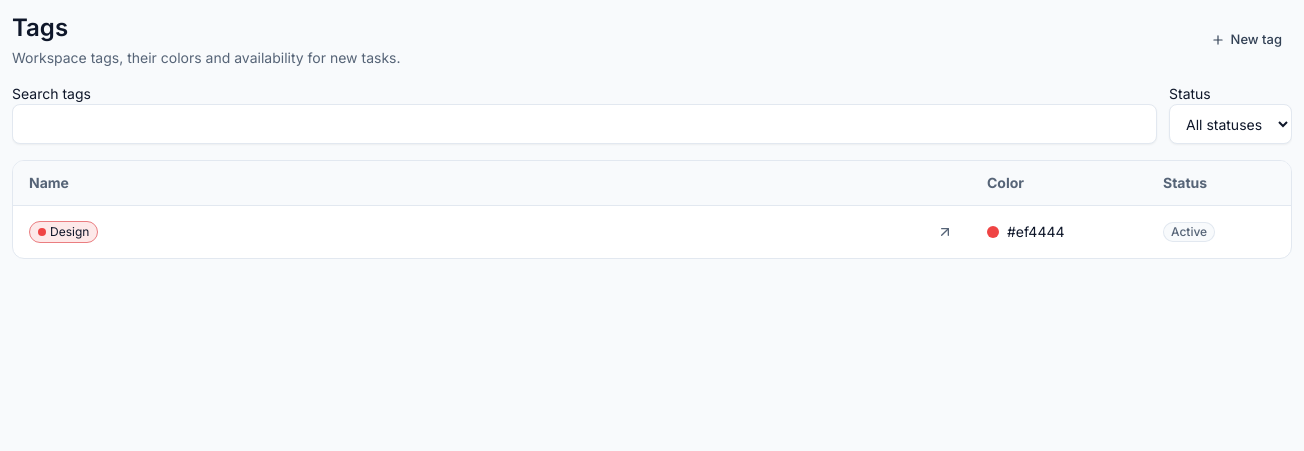
Test: tag catalog and settings › reloads a conflict explicitly and preserves a concurrent rename when archiving
Step 1. Click the button with aria-label "Edit status for Design" → (1219, 232), box x1=1155 y1=214 x2=1283 y2=250
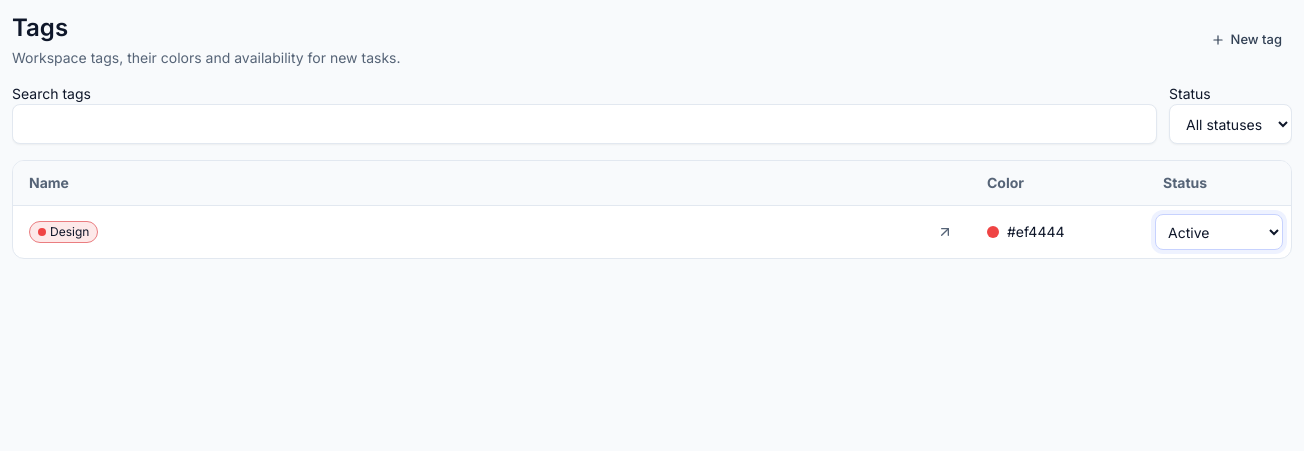
Step 2. Select "Archived" in the dropdown named "Status" → (1219, 232), box x1=1155 y1=214 x2=1283 y2=250
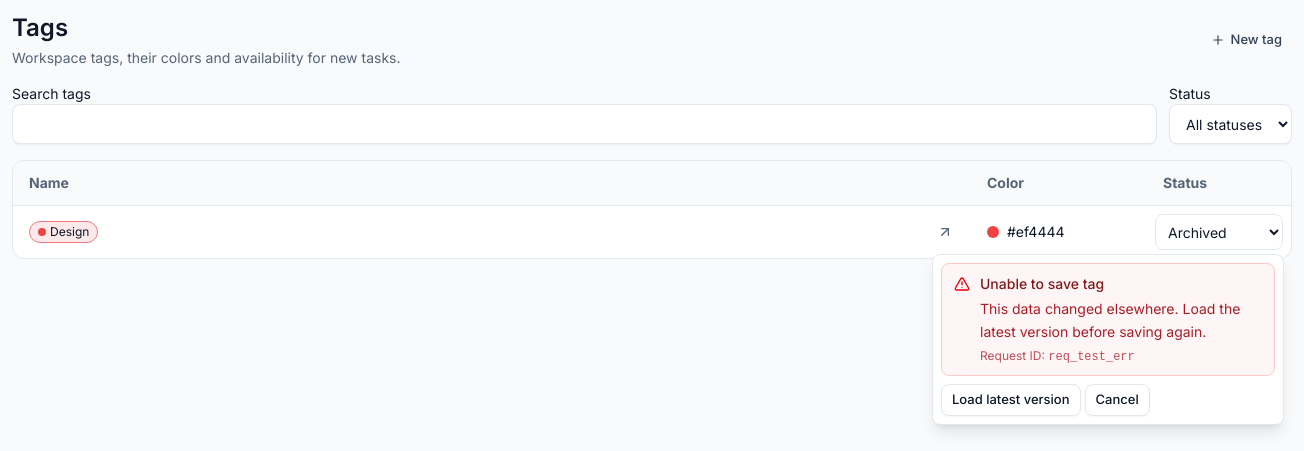
Step 3. Click the button "Load latest version" → (1011, 400), box x1=941 y1=384 x2=1080 y2=416
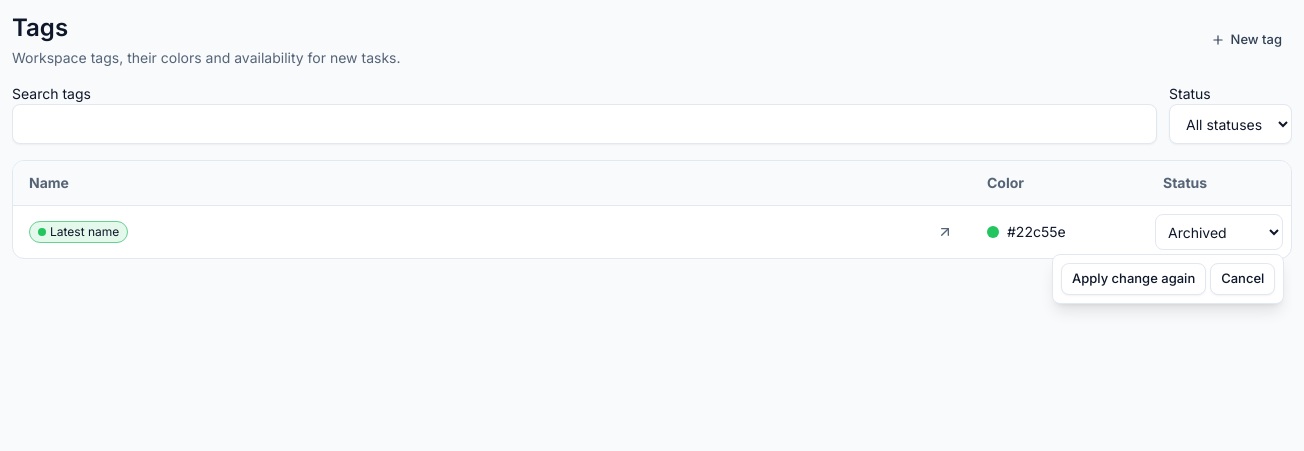
Result: the button with aria-label "Edit name for Latest name" is shown at x1=21 y1=214 x2=923 y2=250
Step 4. Click the button "Apply change again" → (1134, 279), box x1=1061 y1=263 x2=1206 y2=295
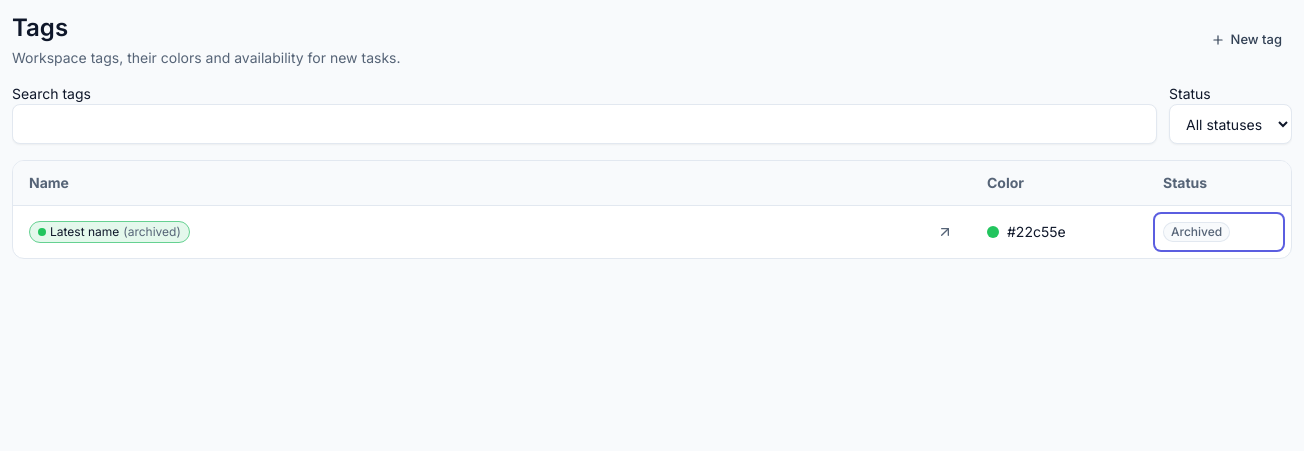
Result: the form is gone
